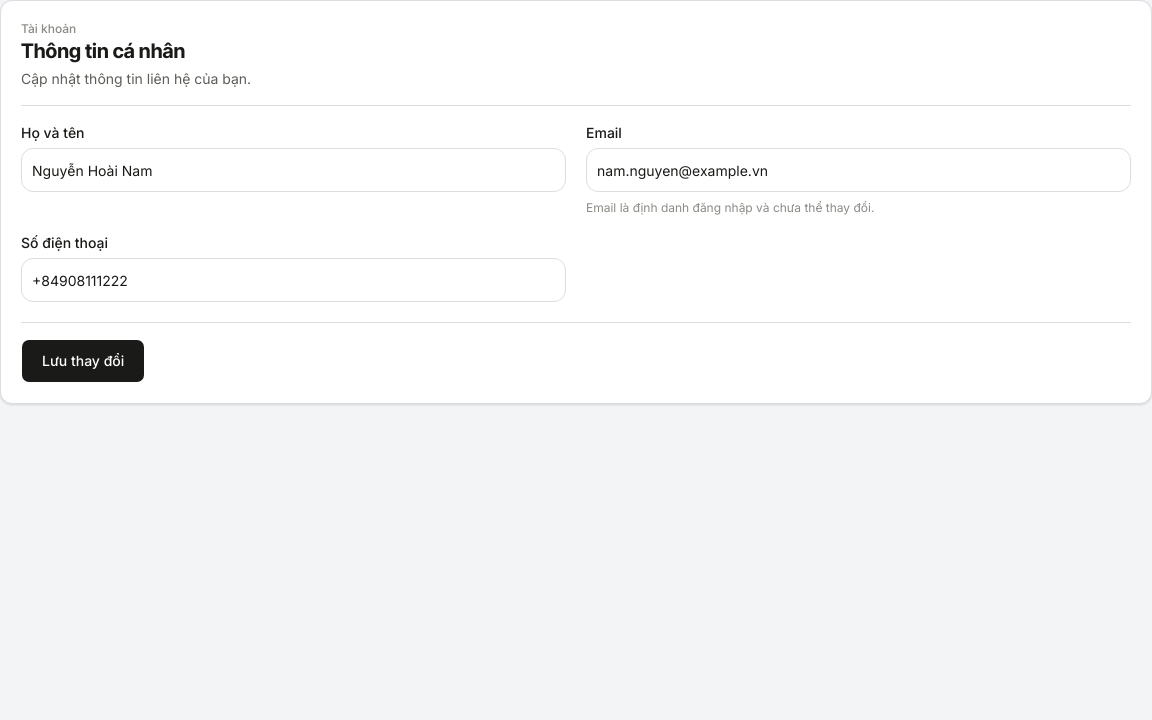
CustomerProfileForm › keeps save and reload errors separate across a new conflict cycle
Replace the text in the field showing "Nguyễn Hoài Nam" with "Bản nháp cục bộ" at (294, 170), box [21,148,566,192]
Click the button "Lưu thay đổi" at (83, 361), box [21,339,145,383]
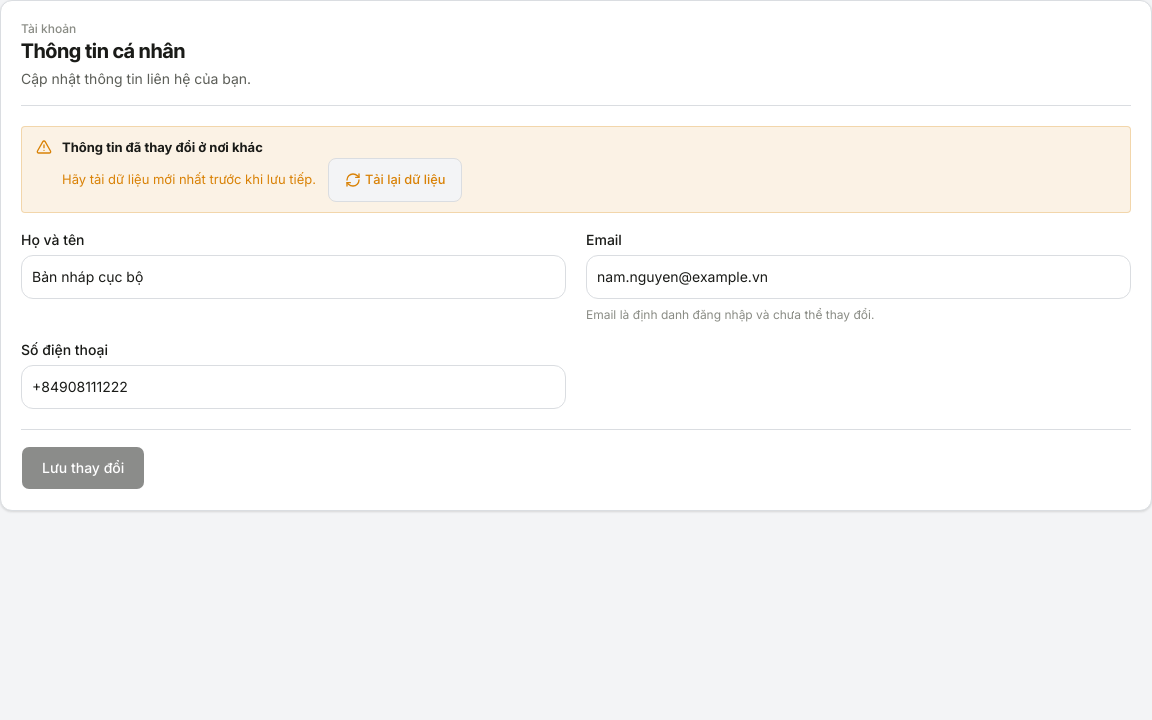
Click the button "Tải lại dữ liệu" at (395, 180), box [328,158,462,202]
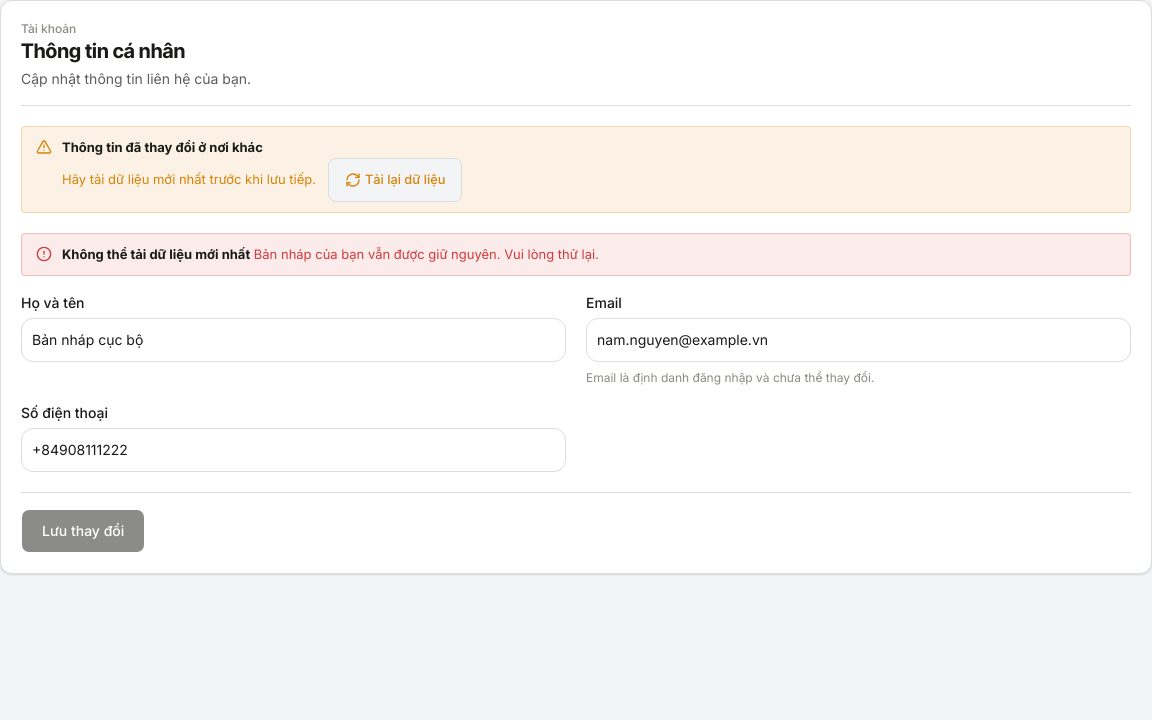
Check: the text "Không thể tải dữ liệu mới nhất" is shown, box [62,246,250,262]
Click the button "Tải lại dữ liệu" at (395, 180), box [328,158,462,202]
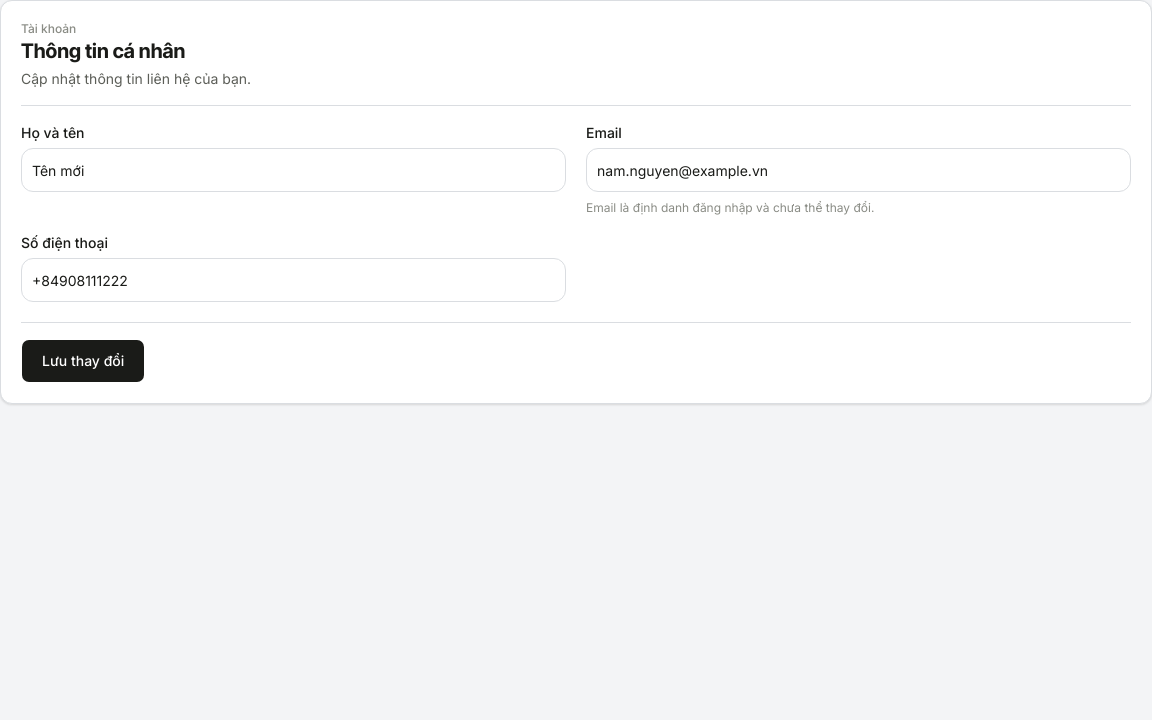
Check: the field showing "Nguyễn Hoài Nam" holds "Tên mới"
Replace the text in the field showing "Nguyễn Hoài Nam" with "Bản nháp lần hai" at (294, 170), box [21,148,566,192]
Click the button "Lưu thay đổi" at (83, 361), box [21,339,145,383]
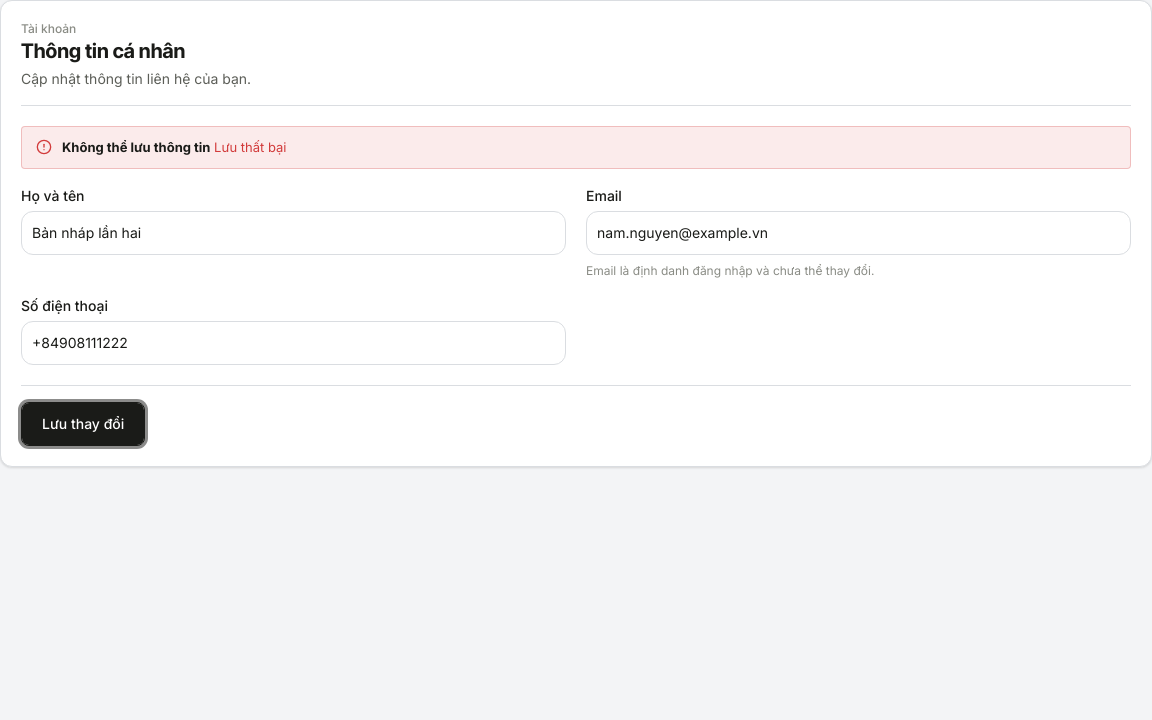
Check: the text "Không thể tải dữ liệu mới nhất" is not shown
Check: the text "Lưu thất bại" is shown, box [214,139,286,155]
Check: the text "Không thể lưu thông tin" is shown, box [62,139,210,155]
Click the button "Lưu thay đổi" at (83, 424), box [21,402,145,446]
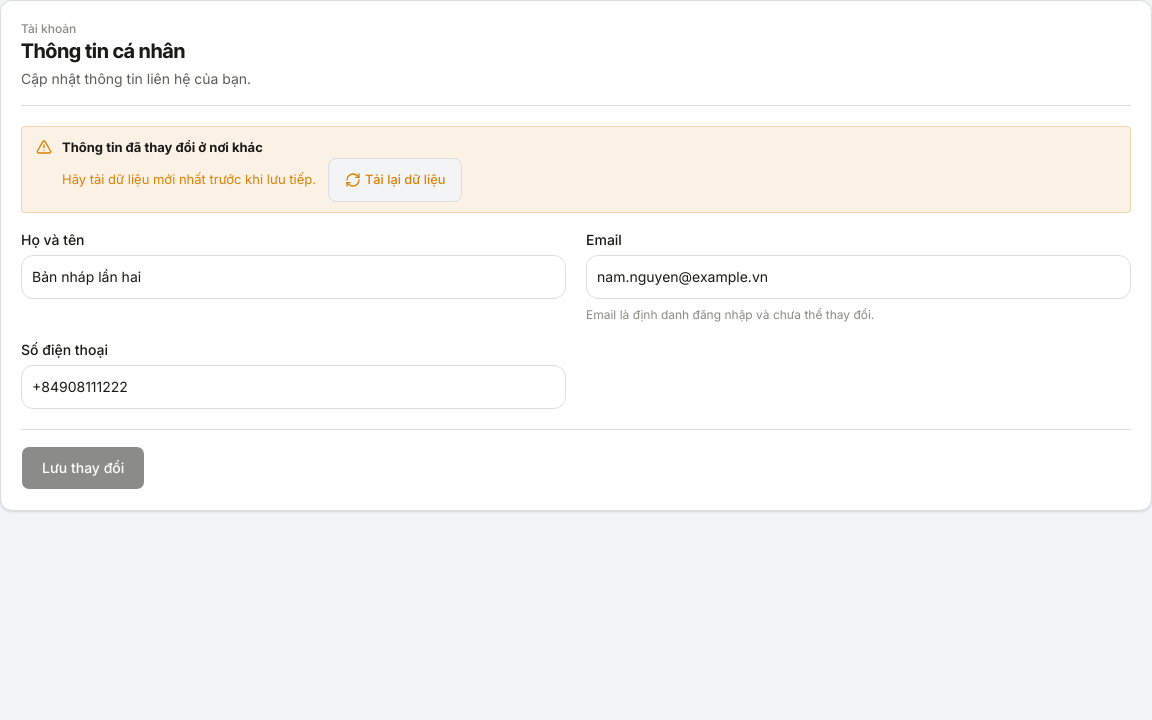
Check: the text "Thông tin đã thay đổi ở nơi khác" is shown, box [62,139,263,155]
Check: the text "Không thể lưu thông tin" is gone
Check: the button "Lưu thay đổi" is disabled, box [21,446,145,490]
Click the button "Tải lại dữ liệu" at (395, 180), box [328,158,462,202]
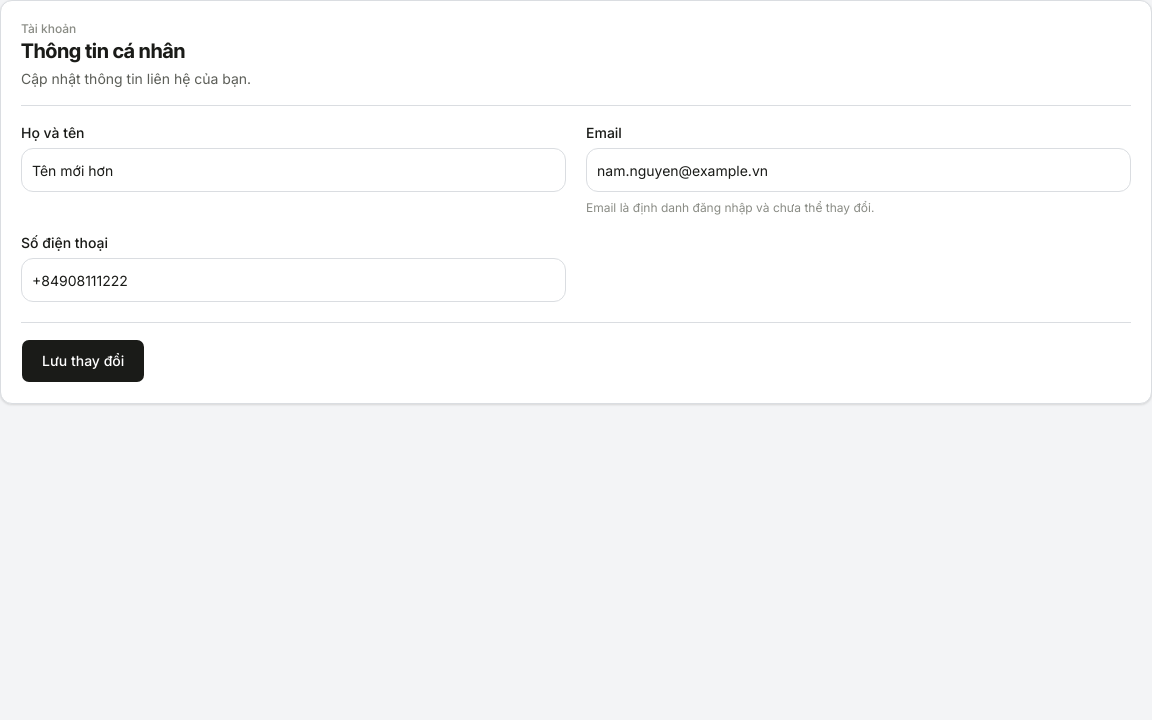
Check: the field showing "Nguyễn Hoài Nam" holds "Tên mới hơn", box [21,148,566,192]
Check: the text "Thông tin đã thay đổi ở nơi khác" is gone
Check: the button "Lưu thay đổi" is enabled, box [21,339,145,383]
